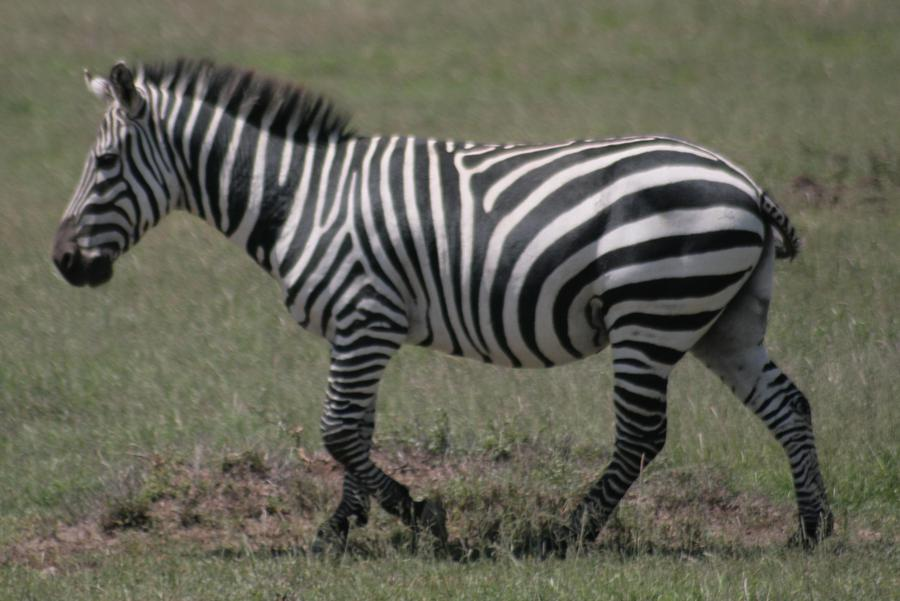zebra_plains: (301, 112, 720, 384)
